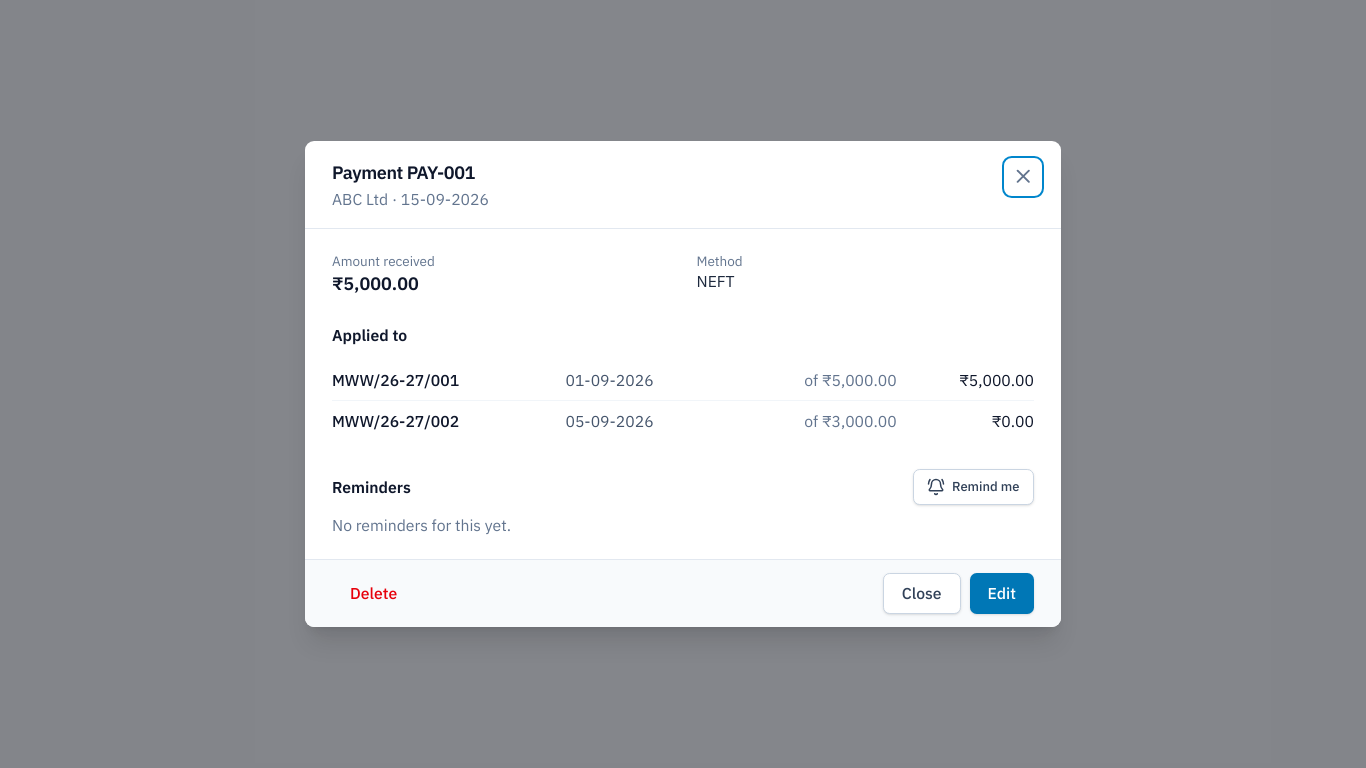
Test: PaymentDetailsModal — delete confirmation › mentions how many invoices will revert to unpaid when allocations exist
This screenshot has width=1366, height=768.
Click the button "Delete".
click(374, 594)  # box 332,573 -> 415,614
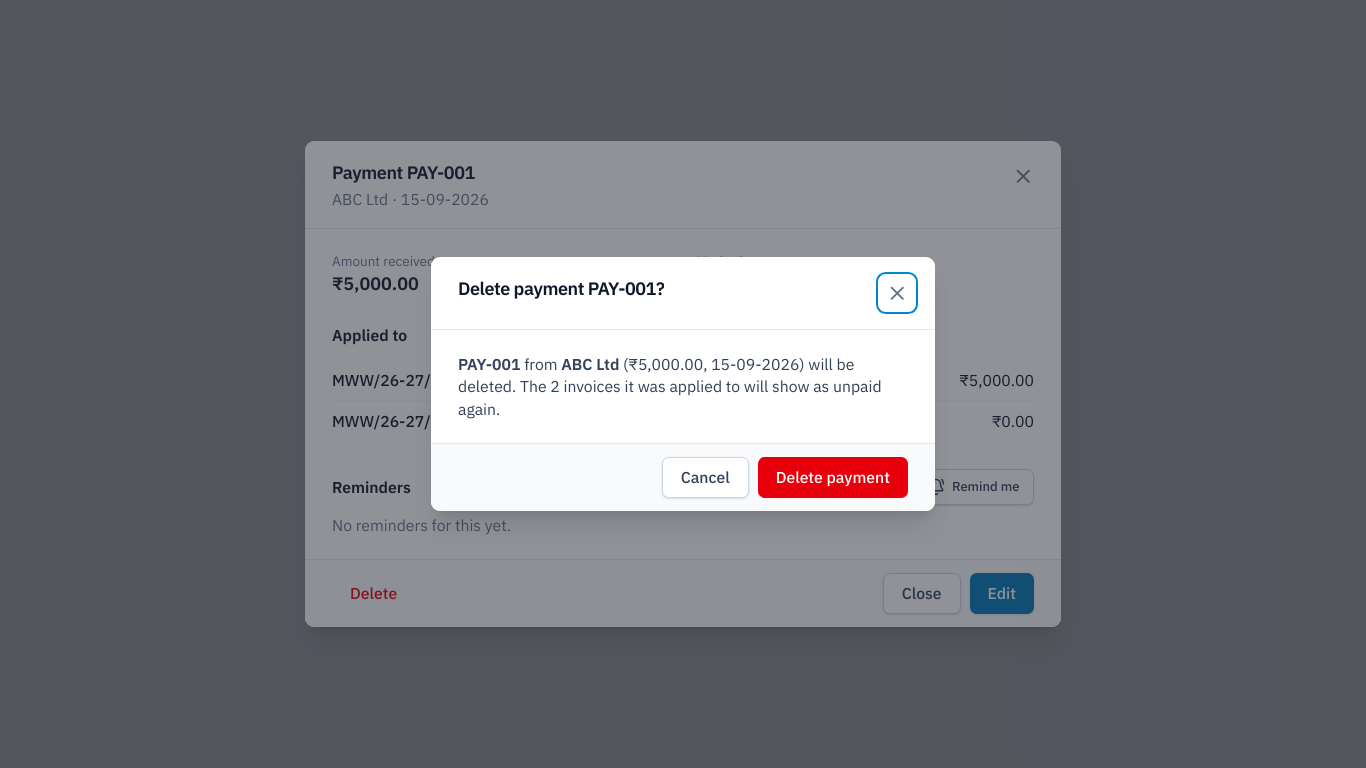
Expected: the text "2 invoice" is shown, 458,352 -> 908,420
